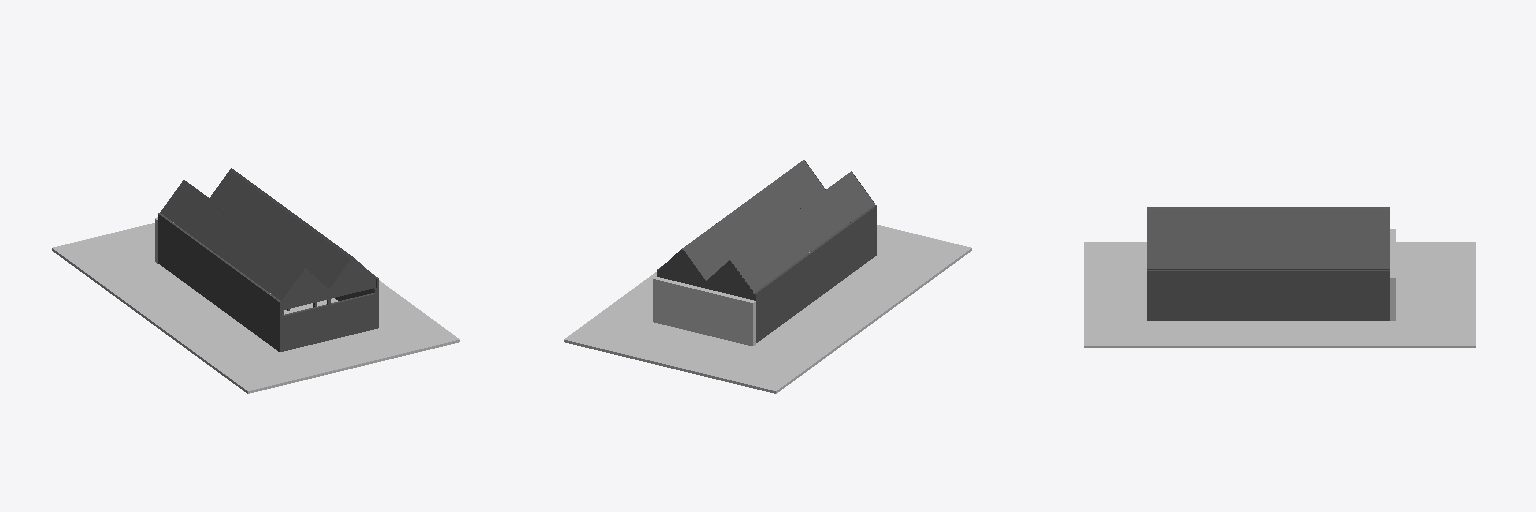
File: gallery_blender.obj
The picture shows the model from 3 angles: view 1: azimuth 30°, elevation 25°; view 2: azimuth 150°, elevation 25°; view 3: azimuth 270°, elevation 25°; orthographic projection.
Parts seen in each view (by area): view 1: Cube_Cube.001, wood_1, wall_1; view 2: Cube_Cube.001, wood_1, wall_1, Cube.001_Cube.002; view 3: Cube_Cube.001, wood_1, wall_1, Cube.001_Cube.002.
Part boxes in pixels (bbox=[...]): Cube_Cube.001: bbox=[52, 223, 459, 393]; wood_1: bbox=[160, 168, 376, 310]; wall_1: bbox=[158, 213, 378, 351]; Cube_Cube.001: bbox=[564, 225, 971, 393]; wood_1: bbox=[659, 160, 874, 299]; wall_1: bbox=[657, 205, 876, 342]; Cube.001_Cube.002: bbox=[653, 277, 755, 345]; Cube_Cube.001: bbox=[1084, 242, 1475, 347]; wood_1: bbox=[1147, 207, 1389, 269]; wall_1: bbox=[1147, 270, 1389, 320]; Cube.001_Cube.002: bbox=[1390, 229, 1395, 320].
Size of the model in its own units: 3.83 by 1.39 by 6.12.